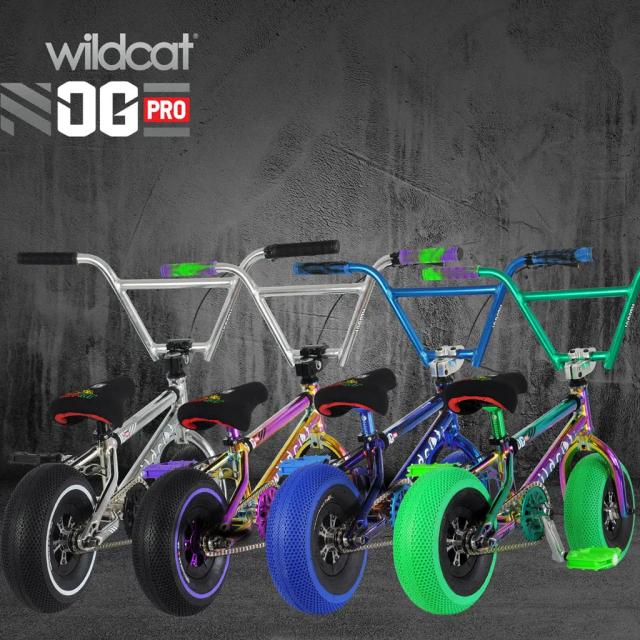bmx-bike: (0, 237, 341, 612), (131, 244, 465, 619), (266, 246, 596, 616), (388, 261, 640, 620)
